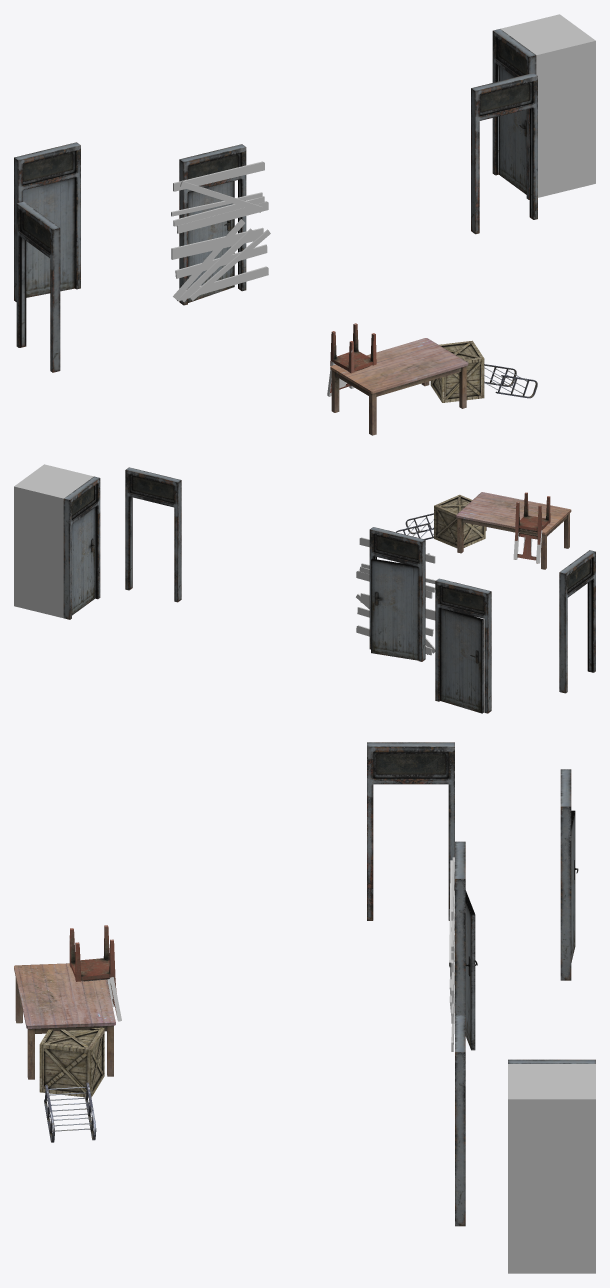
The model's file is Props(Do not Hide)H1.fbx.
3 renders of one model, top to bottom at view 1: azimuth 30°, elevation 25°; view 2: azimuth 150°, elevation 25°; view 3: azimuth 270°, elevation 25°, orthographic. The views are drawn at different scales.
Parts seen in each view (by area): view 1: SingleDoorFrame (×5), DoorBlind, SingleDoor (×3), DoorPlankSet_T02, DiningTable, WoodenCrate_T03, DiningChair, ShoeRack; view 2: SingleDoorFrame (×5), SingleDoor (×3), DoorBlind, DiningTable, WoodenCrate_T03, DoorPlankSet_T02, DiningChair, ShoeRack; view 3: DoorBlind, SingleDoorFrame (×4), DiningTable, WoodenCrate_T03, SingleDoor (×2), DiningChair, ShoeRack, DoorPlankSet_T02.
Boxes of the visible parts, left/top/right/bottom form: SingleDoorFrame (×5): left=14, top=29, right=537, bottom=372; DoorBlind: left=500, top=14, right=595, bottom=197; SingleDoor (×3): left=22, top=66, right=526, bottom=302; DoorPlankSet_T02: left=171, top=161, right=270, bottom=301; DiningTable: left=330, top=338, right=468, bottom=435; WoodenCrate_T03: left=430, top=340, right=484, bottom=402; DiningChair: left=330, top=323, right=376, bottom=392; ShoeRack: left=484, top=364, right=537, bottom=398; SingleDoorFrame (×5): left=63, top=467, right=595, bottom=713; SingleDoor (×3): left=72, top=507, right=483, bottom=713; DoorBlind: left=14, top=464, right=93, bottom=618; DiningTable: left=456, top=492, right=571, bottom=569; WoodenCrate_T03: left=434, top=494, right=485, bottom=548; DoorPlankSet_T02: left=356, top=537, right=435, bottom=655; DiningChair: left=515, top=492, right=550, bottom=563; ShoeRack: left=396, top=513, right=433, bottom=539; DoorBlind: left=508, top=1064, right=595, bottom=1273; SingleDoorFrame (×4): left=367, top=742, right=571, bottom=1226; DiningTable: left=14, top=963, right=115, bottom=1079; WoodenCrate_T03: left=39, top=1027, right=104, bottom=1097; SingleDoor (×2): left=465, top=810, right=578, bottom=1050; DiningChair: left=69, top=925, right=116, bottom=1015; ShoeRack: left=44, top=1082, right=96, bottom=1142; DoorPlankSet_T02: left=449, top=857, right=454, bottom=1051.
Size of the model in its own units: 11.99 by 3.02 by 8.26.
